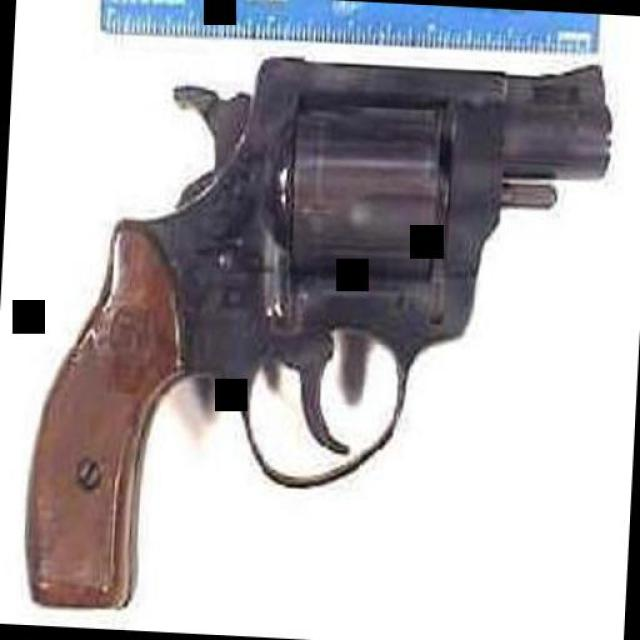gun: (11, 28, 611, 632)
